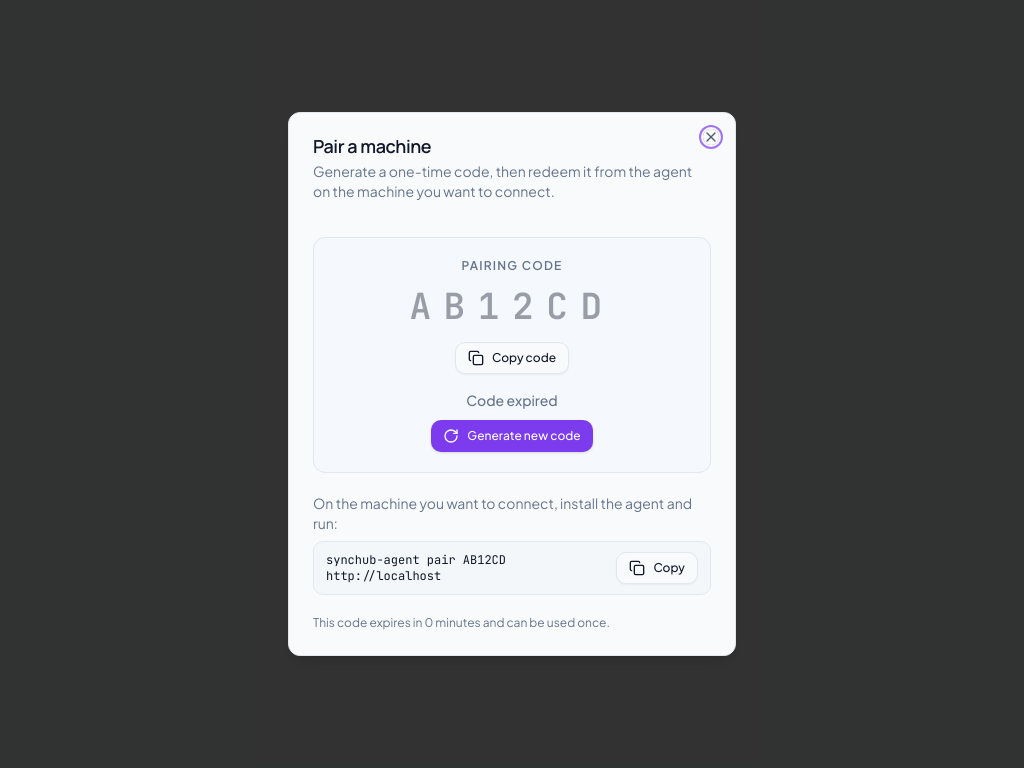
PairMachineDialog › shows an expired state with a generate-new-code action once the countdown hits zero
Expected: the text "AB12CD" is shown, [409,282,615,330]
Expected: the text "Code expired" is shown, [466,390,558,410]
Click the button "Generate new code".
click(512, 436)  # box [431,420,593,452]
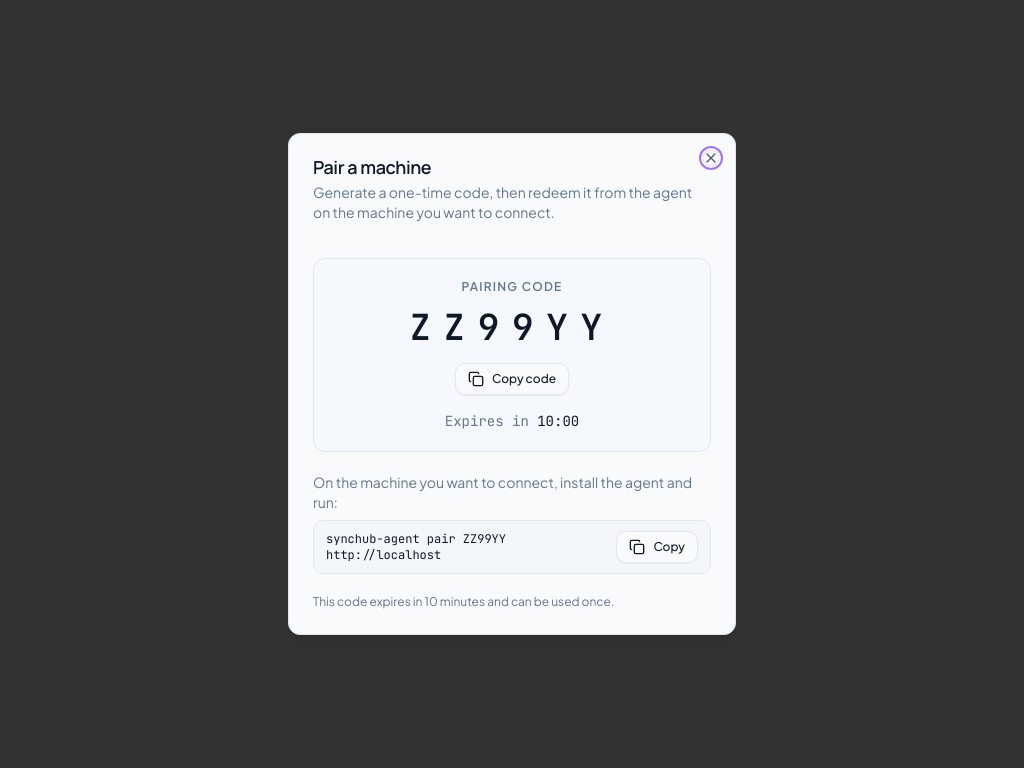
Expected: the text "ZZ99YY" is shown, [409,303,615,351]
Expected: the text "10:00" is shown, [537,412,579,430]
Expected: the text "Code expired" is gone
